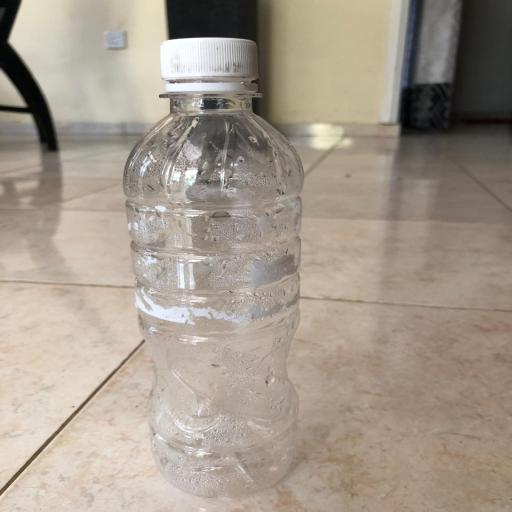waste: (112, 24, 330, 503)
